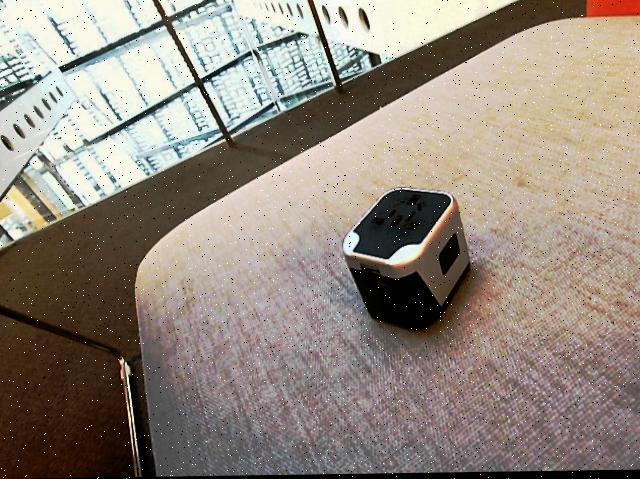adapter: (342, 186, 471, 333)
